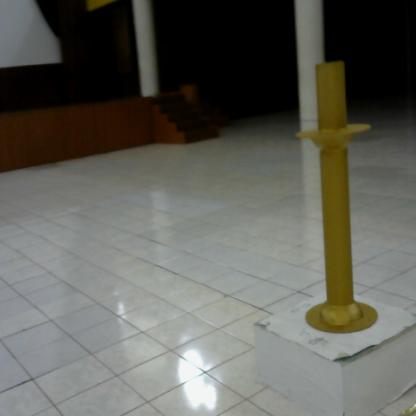pole: (291, 50, 386, 349)
